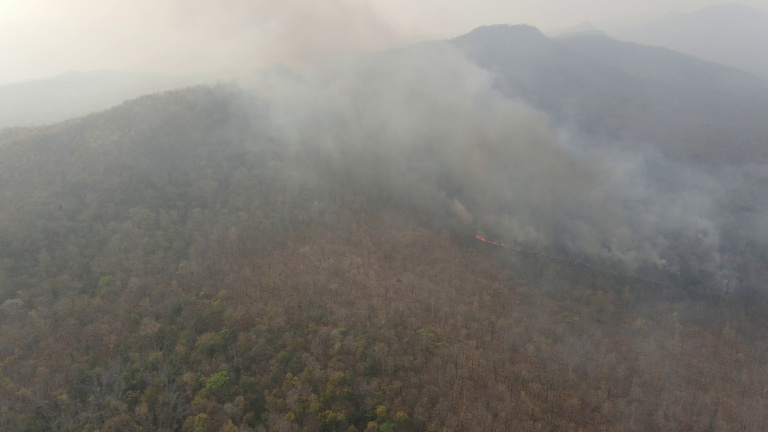fire: (535, 247, 595, 268), (474, 230, 513, 251)
smoke: (226, 1, 693, 252)
